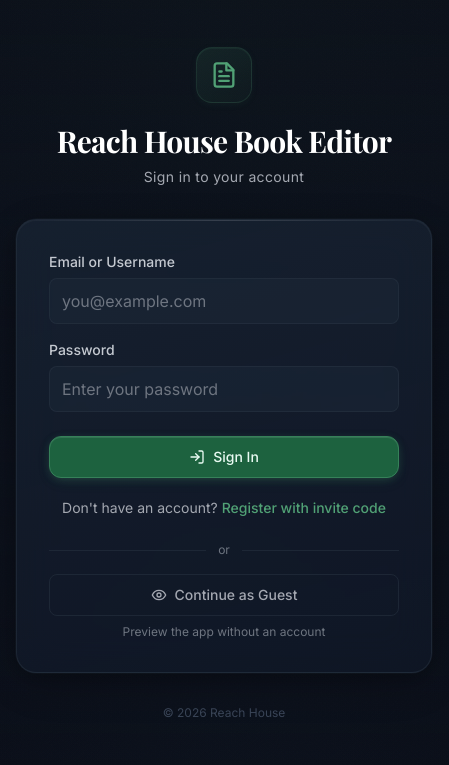
Test case: LoginPage › shows error message on login failure
In the field labelled "Email or Username": (224, 301) [49,278,399,324], type "testuser"
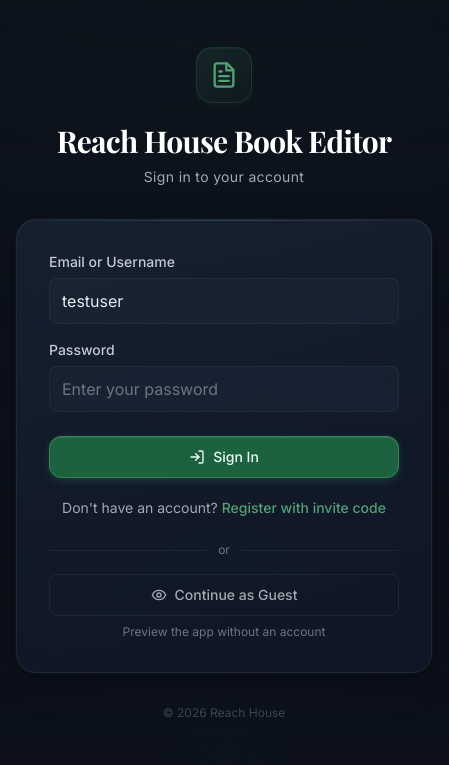
In the password field labelled "Password": (224, 389) [49,366,399,412], type "wrongpass"
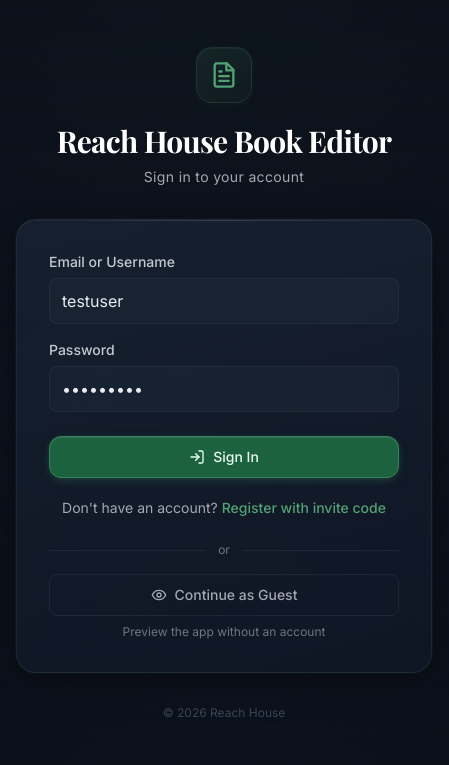
Click the button "Sign In": (224, 457) [49,436,399,478]
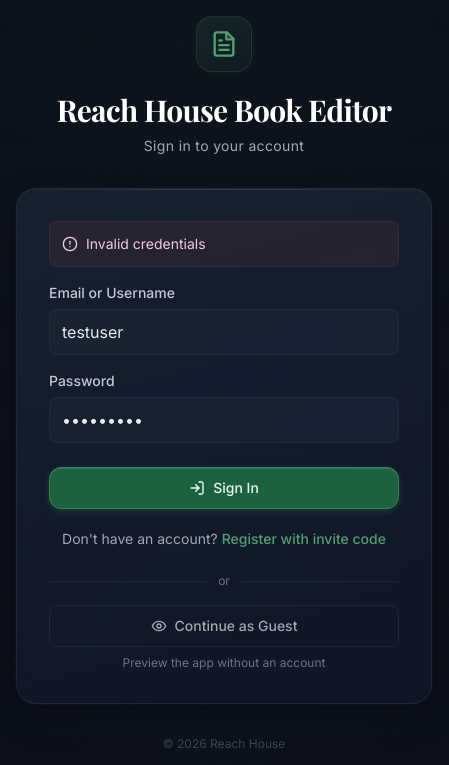
Result: the text "Invalid credentials" is shown at [86,234,206,254]
